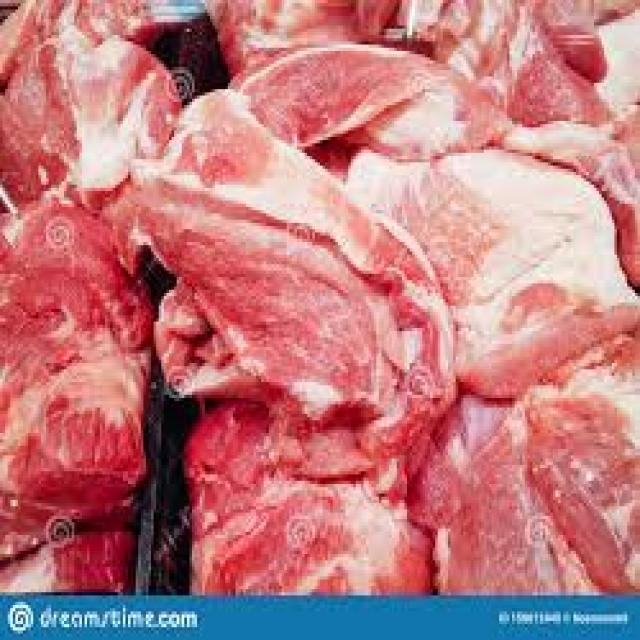Pork: (108, 89, 458, 460), (348, 150, 640, 398), (0, 204, 154, 562), (187, 401, 433, 595), (412, 398, 602, 595), (0, 25, 182, 202), (241, 45, 512, 159), (530, 373, 640, 591)
